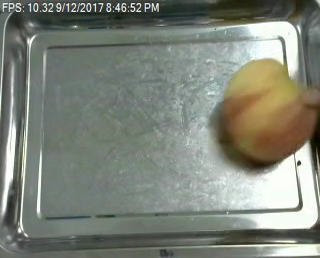Peach: (221, 57, 314, 164)
